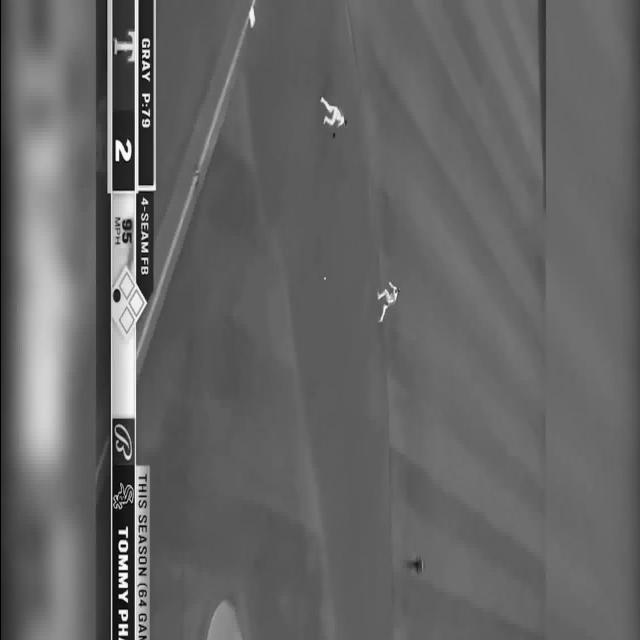base: (248, 7, 255, 29)
baseball: (322, 276, 325, 280)
